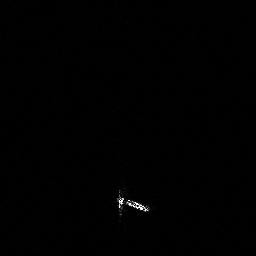ship: (119, 196, 149, 212)
